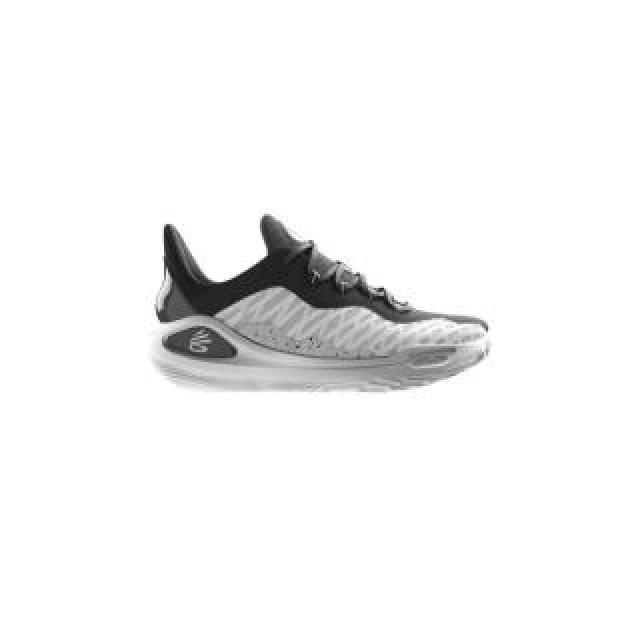shoe: (148, 215, 494, 393)
